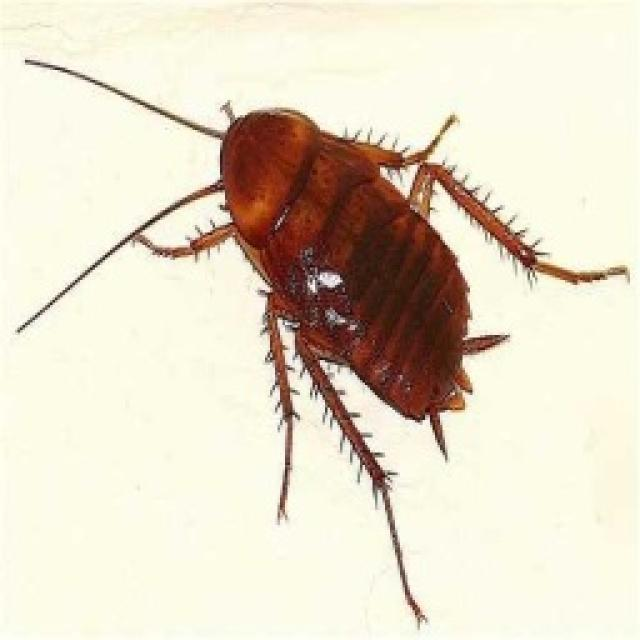cockroach: (150, 53, 586, 485)
